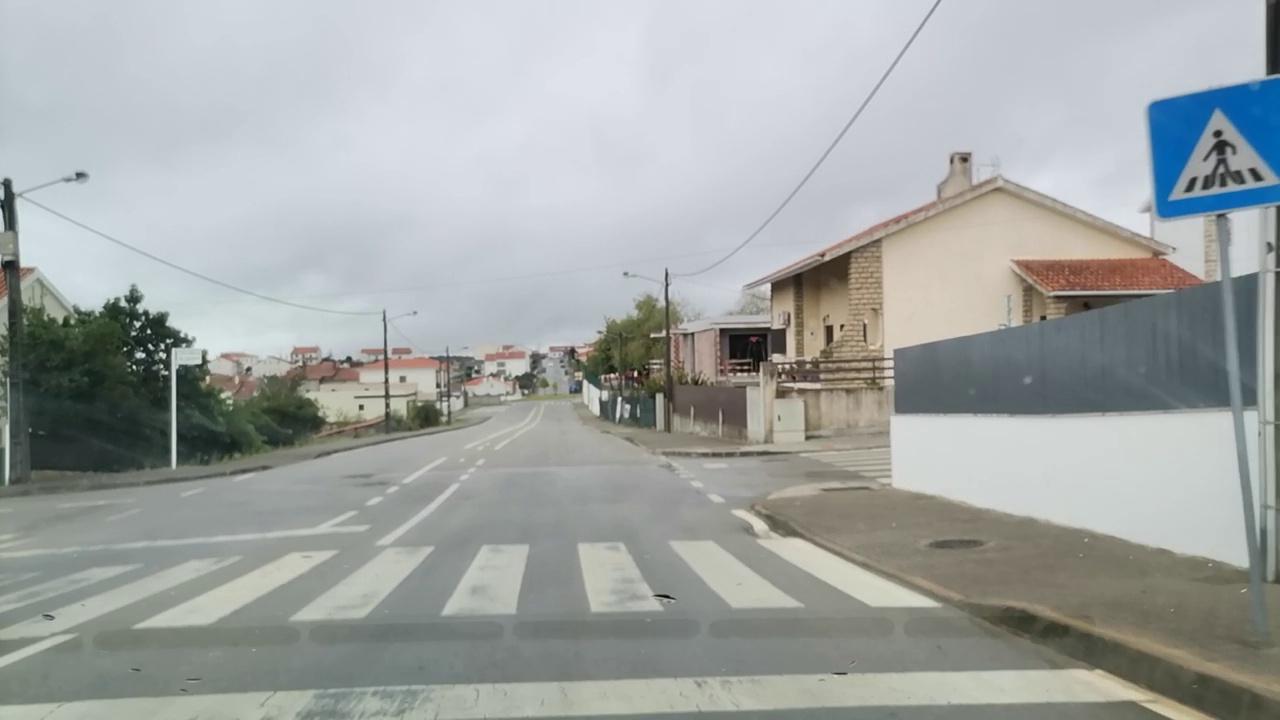Stairs: (0, 535, 942, 645)
